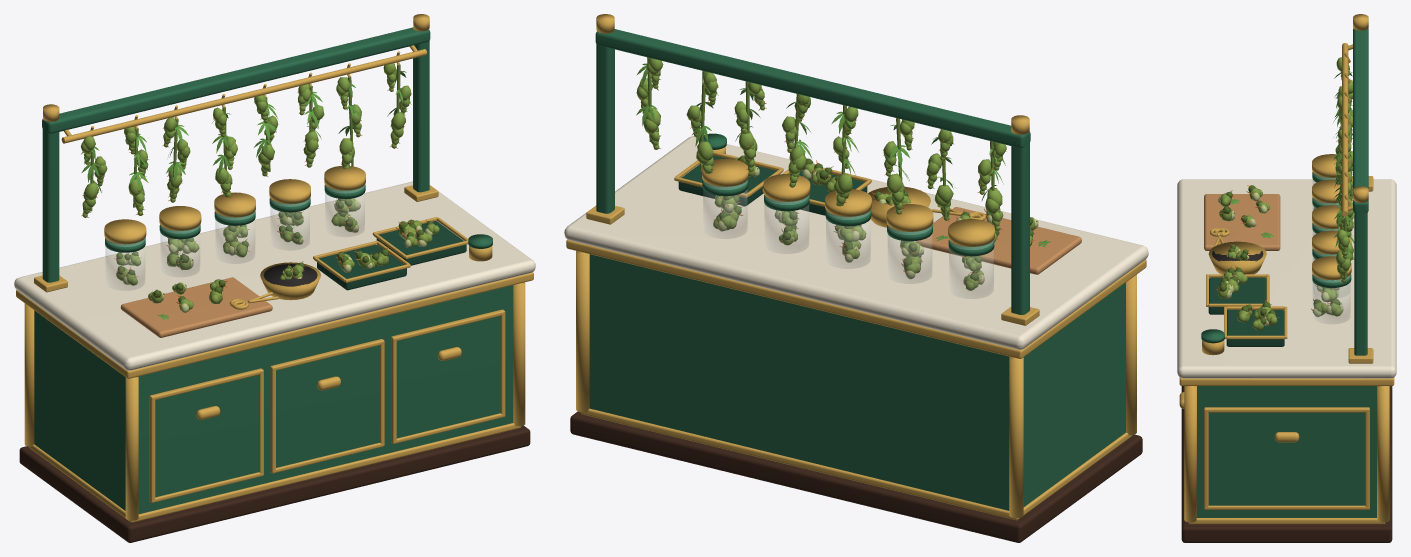
File: harvest_bench_tier4.glb
3 renders of one model, left to right at view 1: azimuth 30°, elevation 25°; view 2: azimuth 150°, elevation 25°; view 3: azimuth 270°, elevation 25°, orthographic. The views are drawn at different scales.
Parts seen in each view (by area): view 1: Top, Body, Plinth, Drawer2, Drawer1, Drawer0, RackBeam, Board, TopBand, BaseBrass, RackPost-1, RackRail (+25 smaller); view 2: Body, Top, Plinth, RackBeam, TopBand, BaseBrass, Board, RackPost-1, RackPost1, Column-11, Column11, Cure0Glass (+12 smaller); view 3: Top, EndDrawer, Body, Plinth, Board, RackBeam, RackPost1, Column1-1, Column11, TopBand, TrayB, Cure4Glass (+19 smaller).
Part boxes in pixels (left/top/right/bottom): Top: left=14, top=181, right=535, bottom=370; Body: left=34, top=285, right=513, bottom=514; Plinth: left=19, top=425, right=530, bottom=542; Drawer2: left=396, top=316, right=500, bottom=438; Drawer1: left=276, top=345, right=379, bottom=467; Drawer0: left=155, top=375, right=258, bottom=497; RackBeam: left=42, top=27, right=430, bottom=133; Board: left=120, top=277, right=272, bottom=337; TopBand: left=16, top=272, right=533, bottom=378; BaseBrass: left=29, top=423, right=521, bottom=522; RackPost-1: left=42, top=120, right=59, bottom=282; RackRail: left=61, top=49, right=427, bottom=143; Body: left=589, top=254, right=1125, bottom=510; Top: left=564, top=136, right=1148, bottom=349; Plinth: left=570, top=411, right=1142, bottom=542; RackBeam: left=595, top=29, right=1030, bottom=147; TopBand: left=566, top=239, right=1146, bottom=358; BaseBrass: left=580, top=408, right=1132, bottom=520; Board: left=915, top=207, right=1081, bottom=274; RackPost-1: left=1011, top=133, right=1029, bottom=314; RackPost1: left=596, top=44, right=614, bottom=213; Column-11: left=1009, top=356, right=1023, bottom=518; Column11: left=576, top=251, right=589, bottom=412; Cure0Glass: left=949, top=240, right=993, bottom=298; Top: left=1177, top=179, right=1396, bottom=378; EndDrawer: left=1208, top=412, right=1365, bottom=505; Body: left=1197, top=386, right=1376, bottom=517; Plinth: left=1181, top=386, right=1392, bottom=542; Board: left=1204, top=194, right=1280, bottom=250; RackBeam: left=1353, top=28, right=1368, bottom=212; RackPost1: left=1354, top=204, right=1367, bottom=355; Column1-1: left=1184, top=386, right=1196, bottom=522; Column11: left=1377, top=386, right=1389, bottom=522; TopBand: left=1179, top=377, right=1394, bottom=385; TrayB: left=1226, top=310, right=1284, bottom=346; Cure4Glass: left=1313, top=275, right=1350, bottom=323.
Size of the model in its own units: 2.02 by 1.71 by 0.98.
